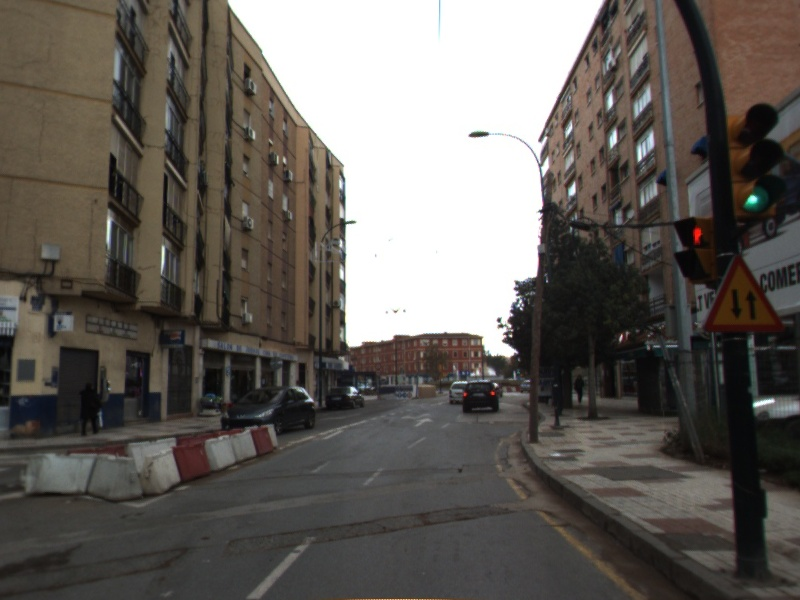STRAIGHT: (411, 416, 436, 428)
STRAIGHT_LEFT: (398, 410, 434, 423)
